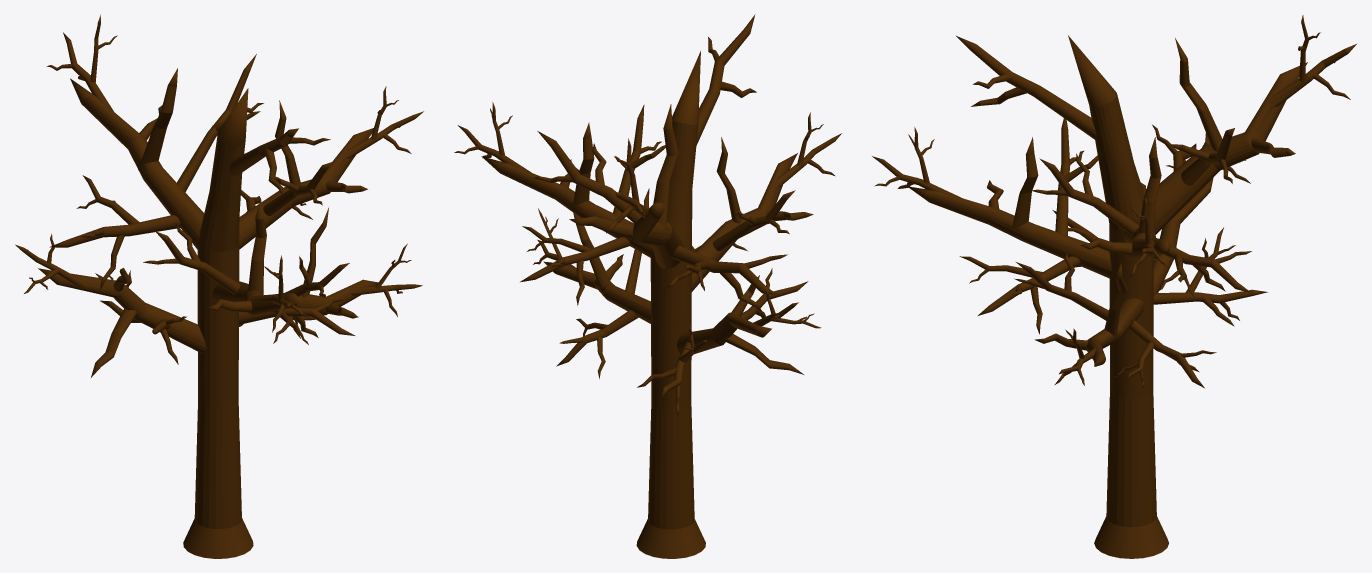
The model's file is Dead Tree.fbx.
The picture shows the model from 3 angles, left to right: view 1: azimuth 30°, elevation 25°; view 2: azimuth 150°, elevation 25°; view 3: azimuth 270°, elevation 25°; orthographic projection. The views are drawn at different scales.
Visible parts, largest first — view 1: Dead_Tree; view 2: Dead_Tree; view 3: Dead_Tree.
Boxes of the visible parts, box(x1,y1,x2,y2) form: Dead_Tree: box(15, 14, 423, 558); Dead_Tree: box(454, 14, 841, 558); Dead_Tree: box(872, 15, 1356, 558).
Bounding box in the file's own units: 16.99 × 20.21 × 17.47.
